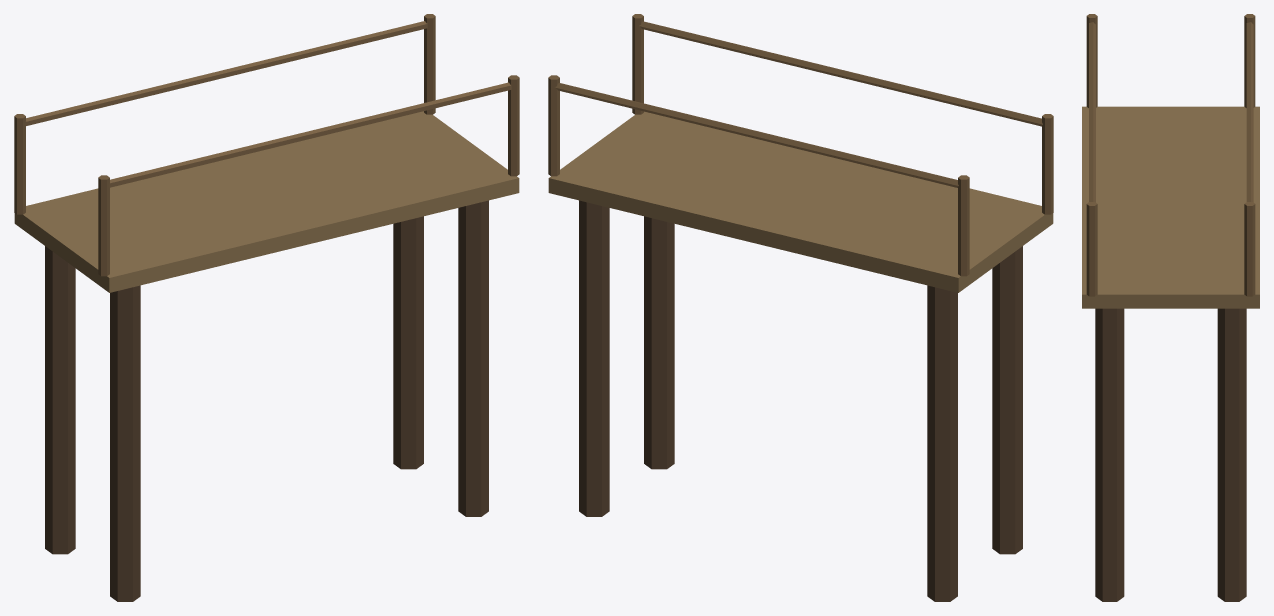
File: K_WalkStraight.glb
The picture shows the model from 3 angles, left to right: view 1: azimuth 30°, elevation 25°; view 2: azimuth 150°, elevation 25°; view 3: azimuth 270°, elevation 25°; orthographic projection. The views are drawn at different scales.
Parts seen in each view (by area): view 1: K_WalkStraight; view 2: K_WalkStraight; view 3: K_WalkStraight.
Boxes of the visible parts, x1,y1,x2,y2 form: K_WalkStraight: [14, 14, 519, 601]; K_WalkStraight: [548, 14, 1053, 601]; K_WalkStraight: [1082, 14, 1259, 601].
Bounding box in the file's own units: 4.09 × 4.04 × 1.6.
